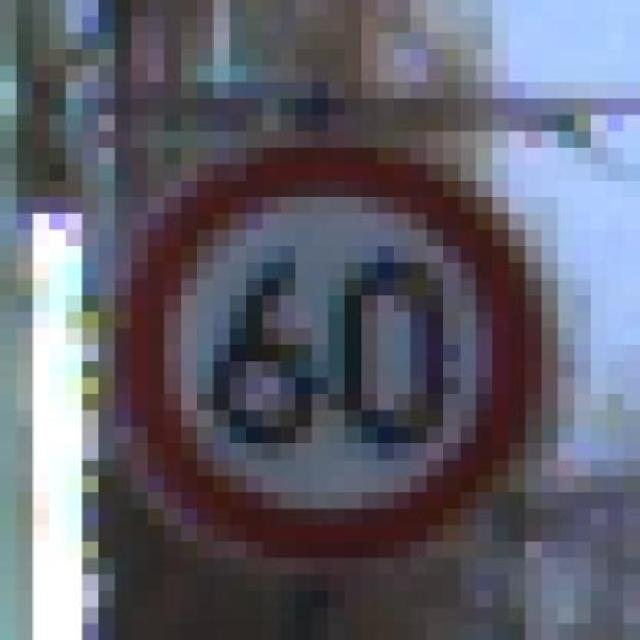forb_speed_over_60: (122, 135, 536, 556)
